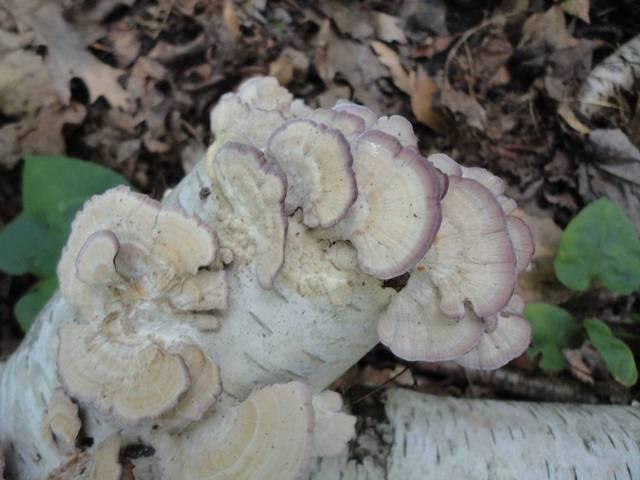Non-edible Mushroom: (0, 73, 536, 479)
